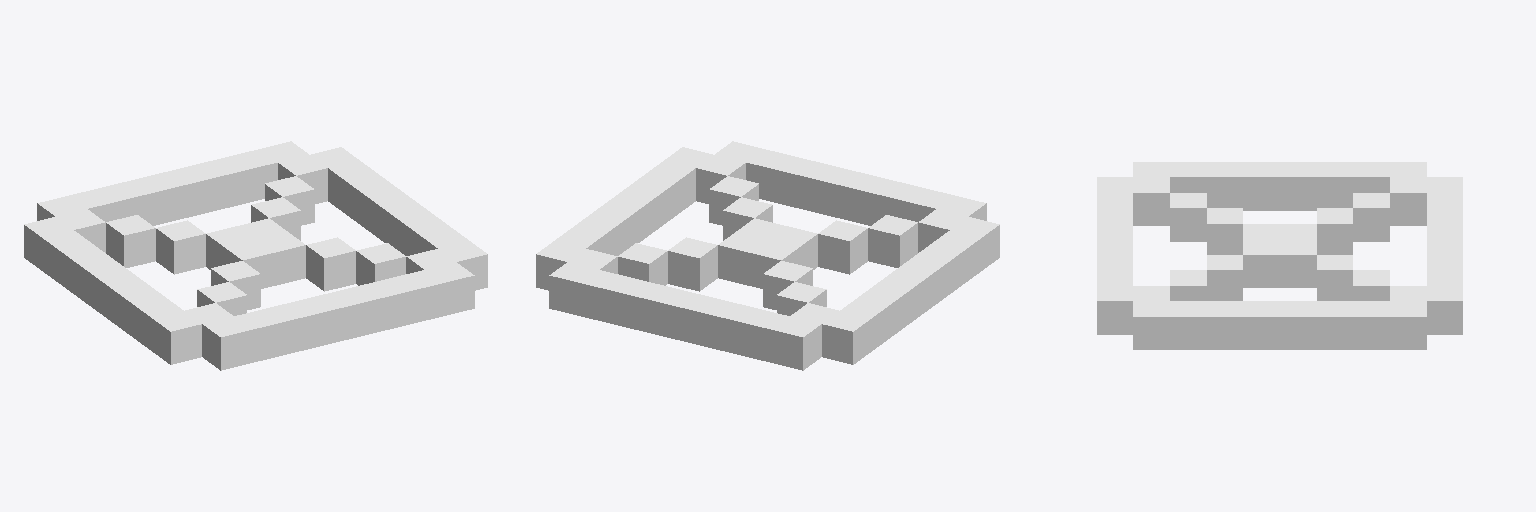
Rendered from Can_Not_Build.obj.
The picture shows the model from 3 angles: view 1: azimuth 30°, elevation 25°; view 2: azimuth 150°, elevation 25°; view 3: azimuth 270°, elevation 25°; orthographic projection.
Visible parts, largest first — view 1: object 1; view 2: object 1; view 3: object 1.
Boxes of the visible parts, <box> form: object 1: <box>24,141,487,370</box>; object 1: <box>536,141,999,370</box>; object 1: <box>1097,162,1462,349</box>.
Bounding box in the file's own units: 1 × 0.1 × 1.